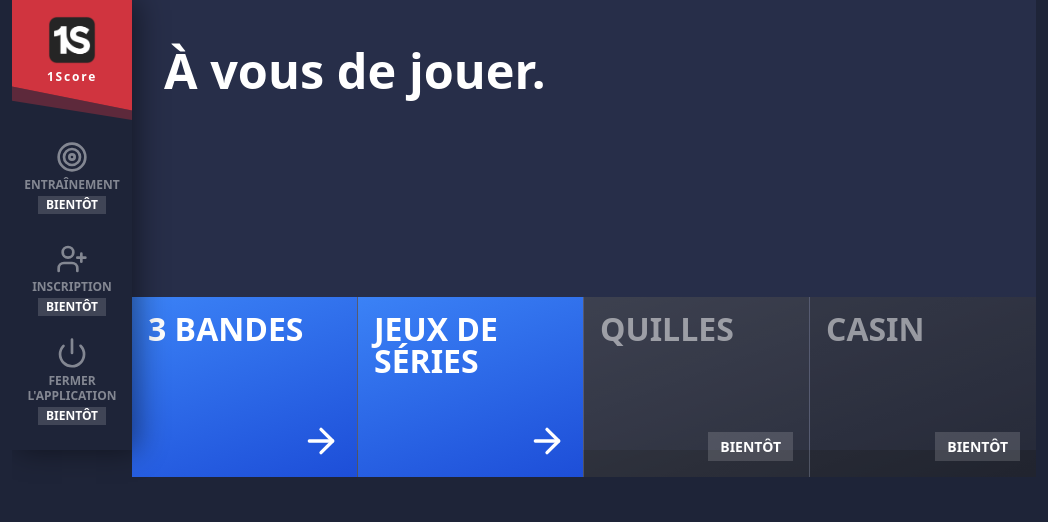
Test: HomeScreen › gives the players step a sidebar holding RETOUR, CONFIGURATION and an ANNULER exit
Press the mouse on the button with test id "category-series": (471, 387) [358,297,584,477]
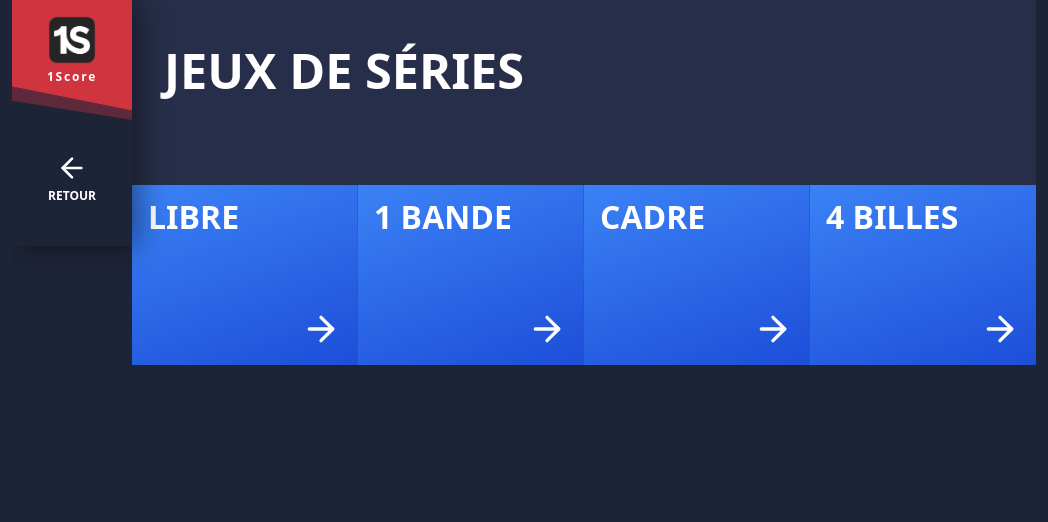
Press the mouse on the button with test id "mode-libre": (245, 275) [132,185,358,365]
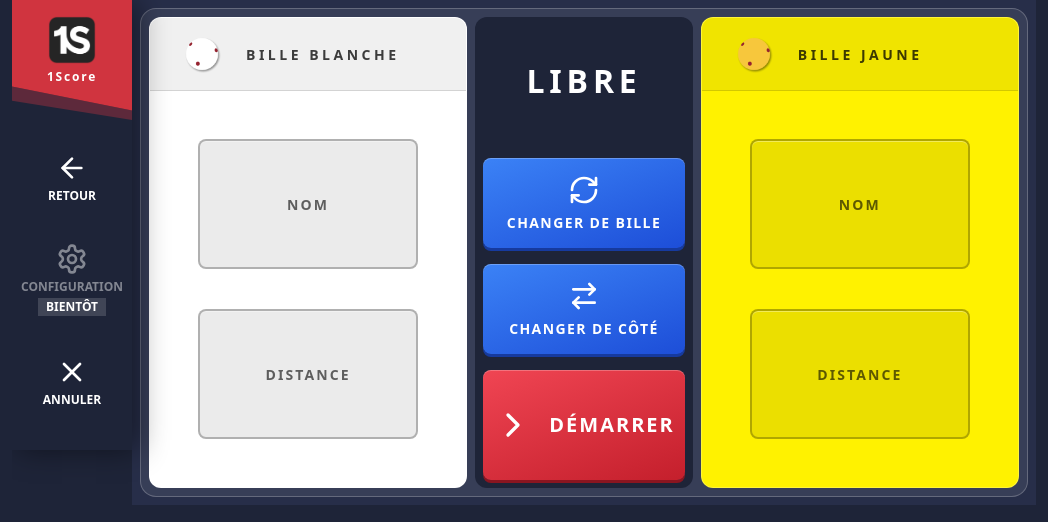
Check: the button with test id "sidebar-item-" shows "CONFIGURATION", box [12,234,132,324]
Check: the button with test id "sidebar-item-" is disabled, box [12,234,132,324]
Check: the button with test id "sidebar-item-" reads "ANNULER", box [12,336,132,426]
